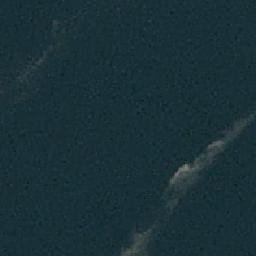debris: (163, 155, 200, 202), (204, 136, 226, 169), (126, 229, 148, 255)
